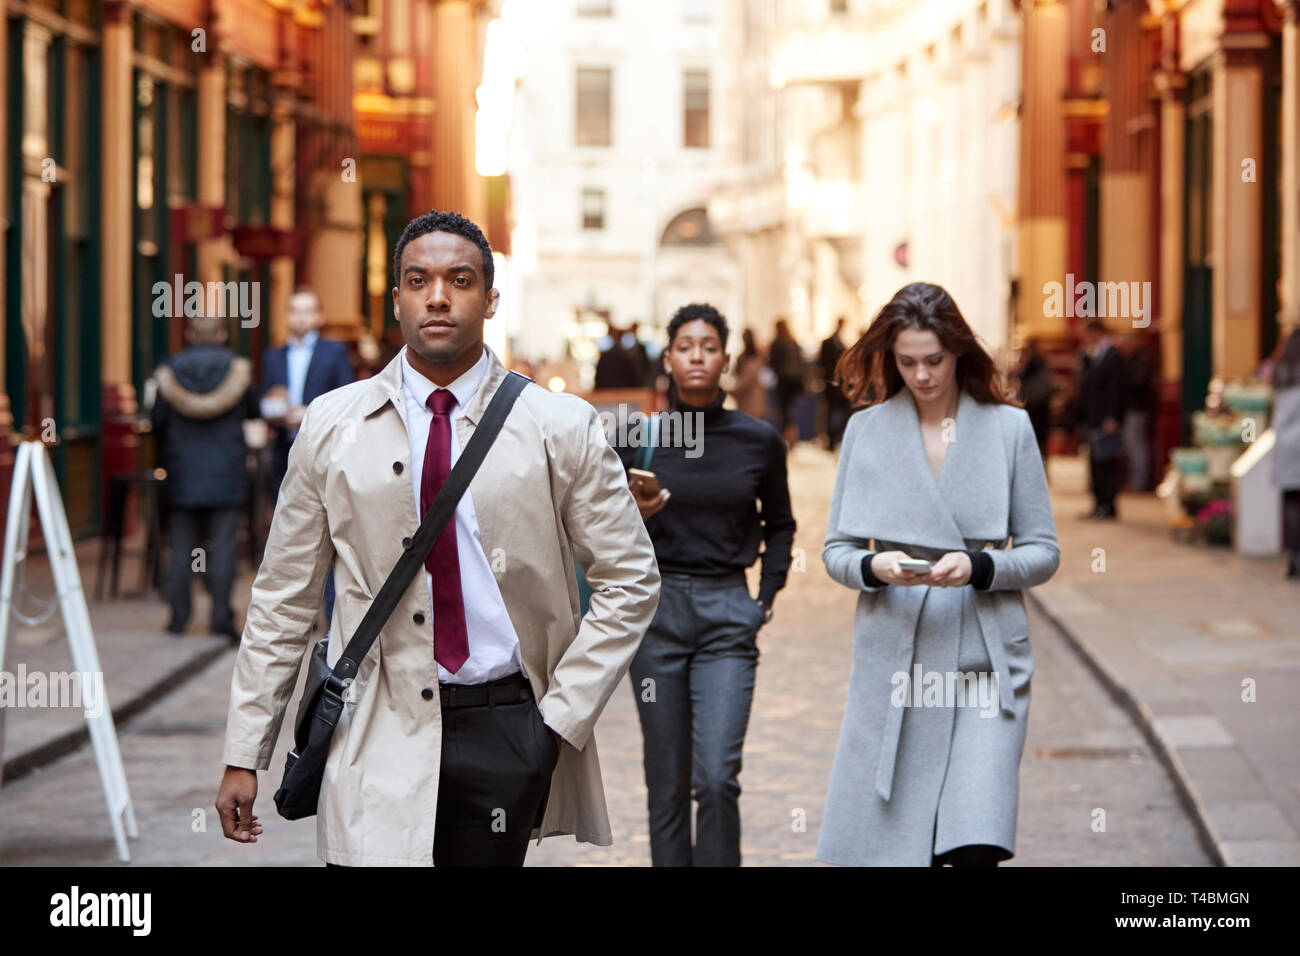face: (386, 215, 498, 365), (875, 281, 974, 403), (662, 300, 726, 393)
